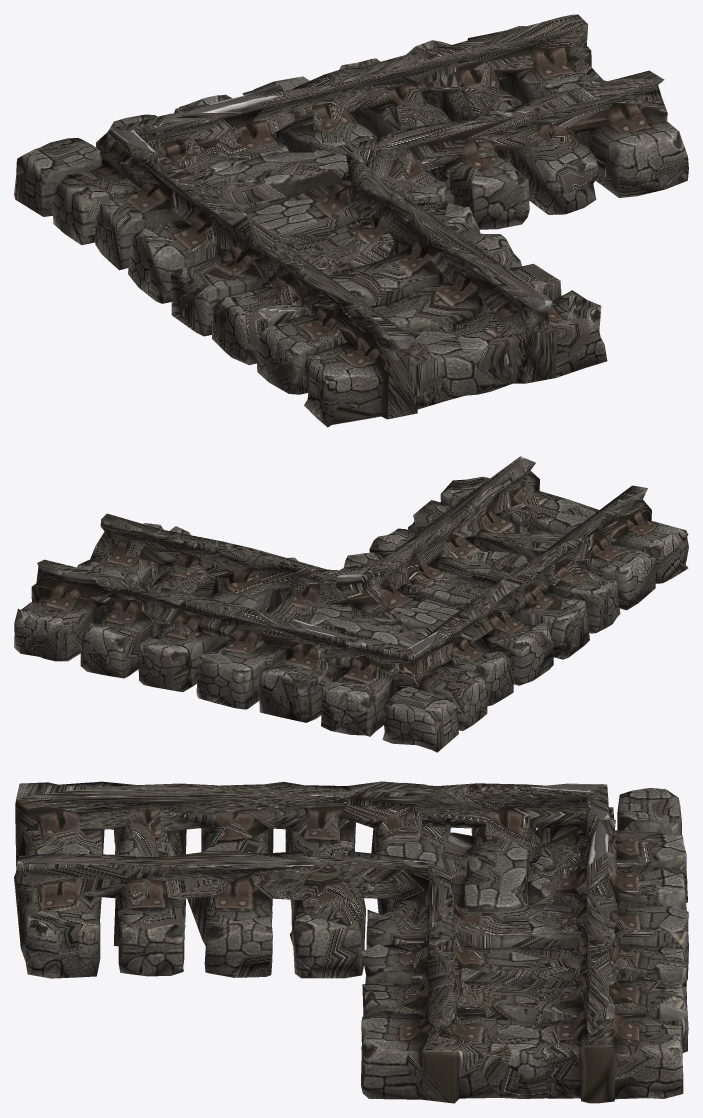
The model's file is railway_track_corner_01.glb.
3 renders of one model, top to bottom at view 1: azimuth 30°, elevation 25°; view 2: azimuth 150°, elevation 25°; view 3: azimuth 270°, elevation 25°, orthographic. The views are drawn at different scales.
Parts seen in each view (by area): view 1: tripo_node_83f1ac88-4b50-4f3a-b744-21353ea568d6; view 2: tripo_node_83f1ac88-4b50-4f3a-b744-21353ea568d6; view 3: tripo_node_83f1ac88-4b50-4f3a-b744-21353ea568d6.
Boxes of the visible parts, box(x1,y1,x2,y2) form: tripo_node_83f1ac88-4b50-4f3a-b744-21353ea568d6: box(14, 14, 688, 427); tripo_node_83f1ac88-4b50-4f3a-b744-21353ea568d6: box(14, 456, 688, 752); tripo_node_83f1ac88-4b50-4f3a-b744-21353ea568d6: box(14, 781, 688, 1103).
Size of the model in its own units: 0.923 by 0.1429 by 0.9782.
1 material, 1 textured.
